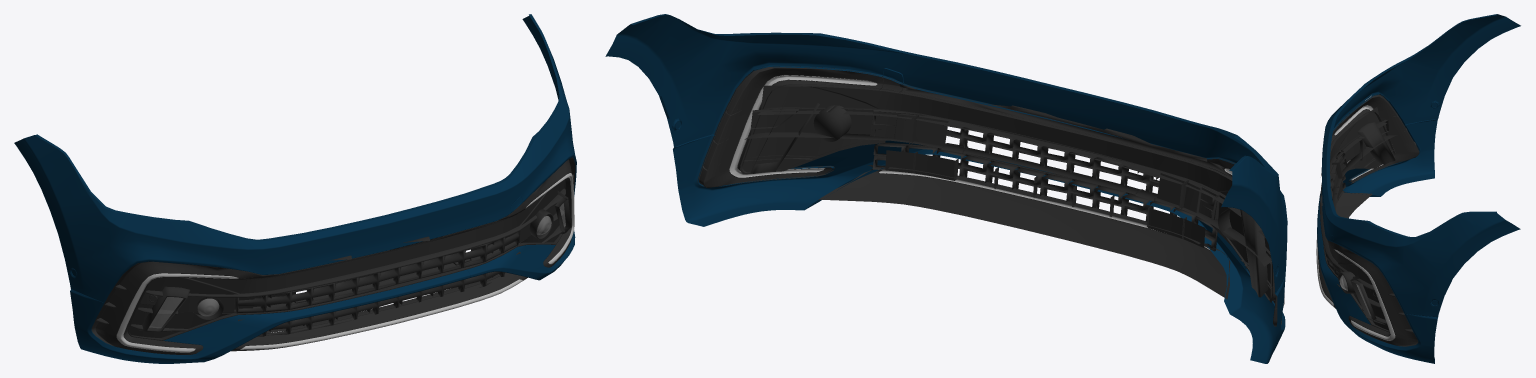
3 views of the same model, side by side, from view 1: azimuth 30°, elevation 25°; view 2: azimuth 150°, elevation 25°; view 3: azimuth 270°, elevation 25° (orthographic). The views are drawn at different scales.
Visible parts, largest first — view 1: front bumper 5; view 2: front bumper 5; view 3: front bumper 5.
Part boxes in pixels (x1,y1,x2,y2): front bumper 5: [14, 14, 576, 363]; front bumper 5: [605, 14, 1287, 363]; front bumper 5: [1316, 14, 1520, 363].
Size of the model in its own units: 1.89 by 0.6723 by 0.8057.
Materials: 6 (1 with a texture image).
